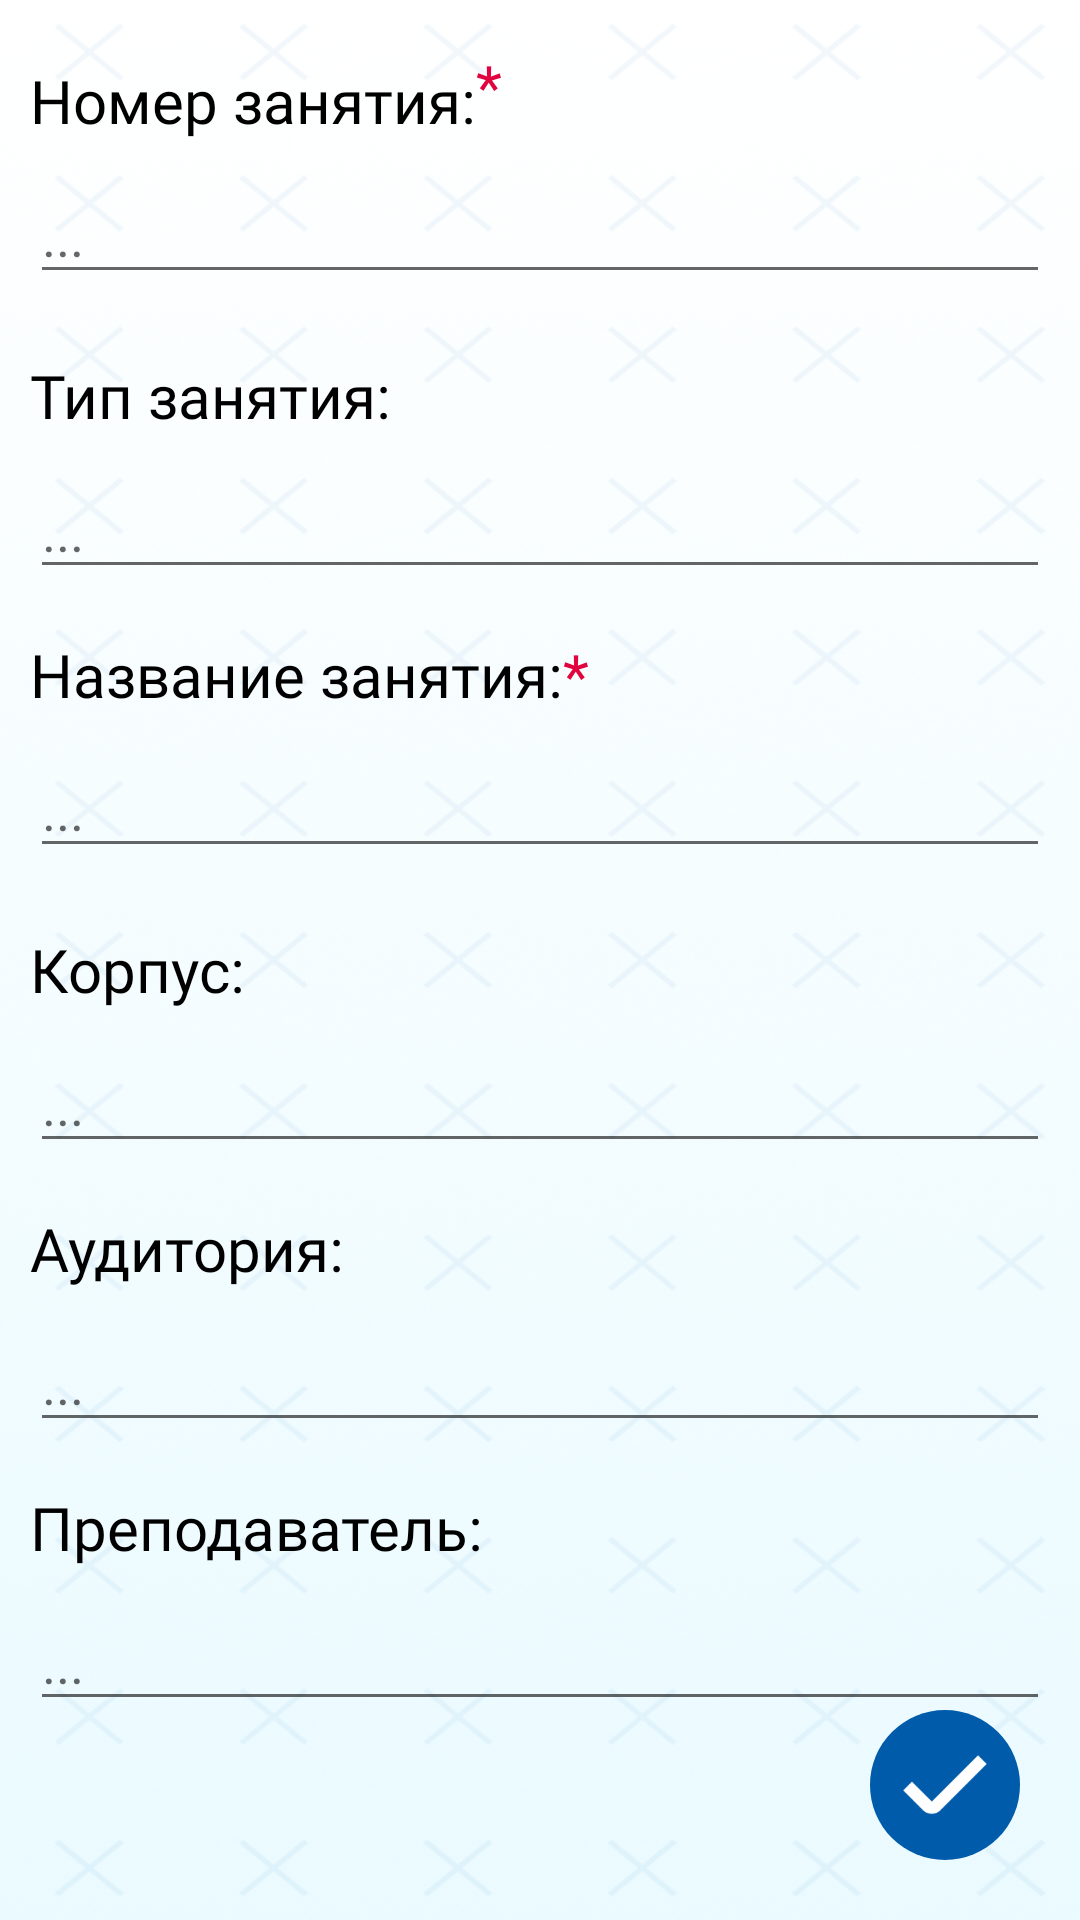

Icon click points for this 1080*1920 phone screenshot, format (x=x, y=y):
check: (x=945, y=1785)
